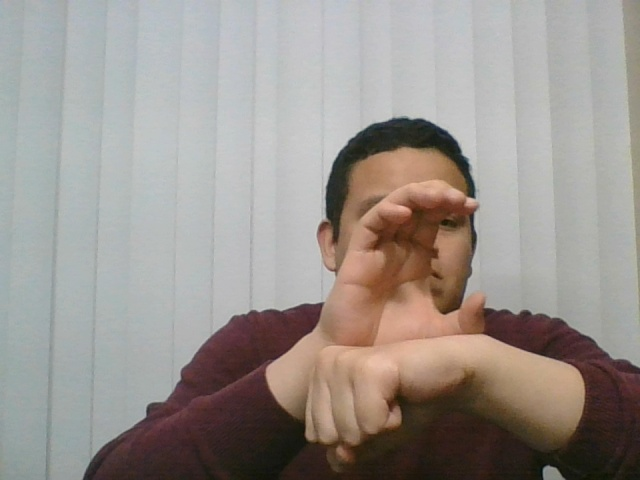Church: (271, 167, 498, 466)
